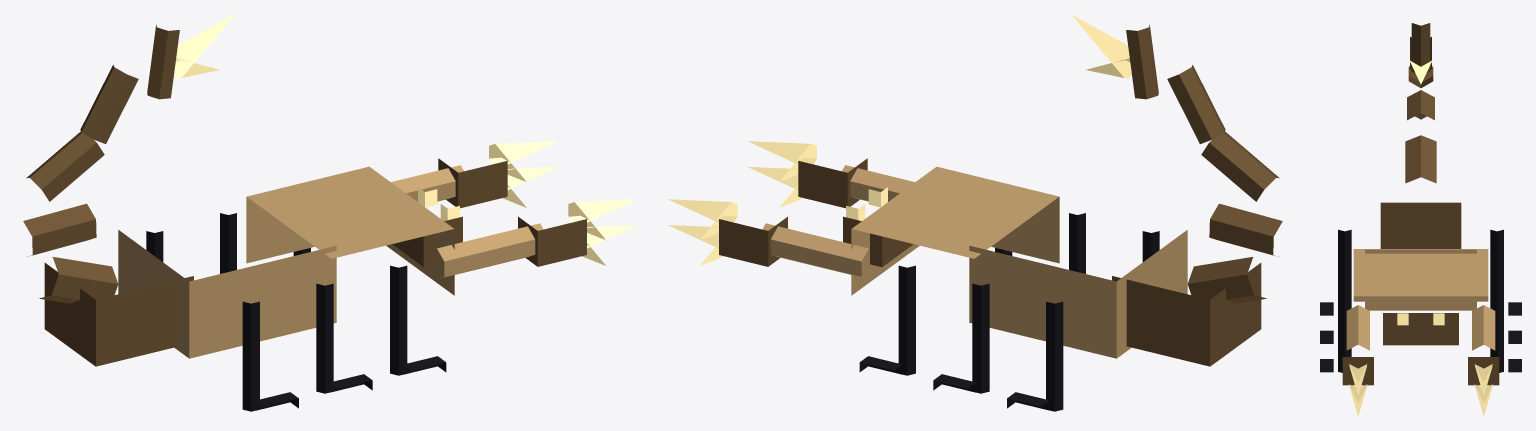
File: scorpion.glb
The picture shows the model from 3 angles, left to right: view 1: azimuth 30°, elevation 25°; view 2: azimuth 150°, elevation 25°; view 3: azimuth 270°, elevation 25°; orthographic projection. The views are drawn at different scales.
Parts seen in each view (by area): view 1: scorpion-cephalo, scorpion-abdomen, scorpion-abdomen2, scorpion-pincer-arm-1, scorpion-tail-2, scorpion-tail-1, scorpion-tail-0, scorpion-tail-3, scorpion-pincer-base--1, scorpion-pincer-base-1, scorpion-leg-l0, scorpion-leg-l2 (+10 smaller); view 2: scorpion-cephalo, scorpion-abdomen, scorpion-abdomen2, scorpion-pincer-arm--1, scorpion-tail-2, scorpion-tail-1, scorpion-tail-0, scorpion-tail-3, scorpion-pincer-base-1, scorpion-pincer-base--1, scorpion-leg-r0, scorpion-leg-r2 (+10 smaller); view 3: scorpion-cephalo, scorpion-abdomen2, scorpion-head, scorpion-abdomen, scorpion-tail-0, scorpion-pincer-arm-1, scorpion-pincer-arm--1, scorpion-leg-l0, scorpion-leg-r0, scorpion-tail-4, scorpion-pincer-base-1, scorpion-pincer-base--1 (+11 smaller).
Boxes of the visible parts, x1,y1,x2,y2 form: scorpion-cephalo: [246, 166, 454, 295]; scorpion-abdomen: [118, 230, 336, 358]; scorpion-abdomen2: [44, 263, 193, 366]; scorpion-pincer-arm-1: [437, 223, 543, 278]; scorpion-tail-2: [26, 131, 104, 201]; scorpion-tail-1: [23, 203, 96, 256]; scorpion-tail-0: [39, 257, 118, 303]; scorpion-tail-3: [80, 65, 138, 143]; scorpion-pincer-base--1: [438, 158, 507, 208]; scorpion-pincer-base-1: [518, 216, 586, 266]; scorpion-leg-l0: [390, 265, 407, 375]; scorpion-leg-l2: [242, 301, 259, 411]; scorpion-cephalo: [851, 166, 1059, 295]; scorpion-abdomen: [969, 230, 1187, 358]; scorpion-abdomen2: [1112, 263, 1261, 366]; scorpion-pincer-arm--1: [762, 223, 868, 278]; scorpion-tail-2: [1201, 131, 1279, 201]; scorpion-tail-1: [1209, 203, 1282, 256]; scorpion-tail-0: [1187, 257, 1266, 303]; scorpion-tail-3: [1167, 65, 1225, 143]; scorpion-pincer-base-1: [798, 158, 867, 208]; scorpion-pincer-base--1: [719, 216, 787, 266]; scorpion-leg-r0: [898, 265, 915, 375]; scorpion-leg-r2: [1046, 301, 1063, 411]; scorpion-cephalo: [1353, 249, 1488, 301]; scorpion-abdomen2: [1380, 202, 1461, 248]; scorpion-head: [1383, 313, 1458, 345]; scorpion-abdomen: [1365, 249, 1476, 310]; scorpion-tail-0: [1405, 135, 1436, 183]; scorpion-pincer-arm-1: [1346, 305, 1369, 350]; scorpion-pincer-arm--1: [1472, 305, 1495, 350]; scorpion-leg-l0: [1338, 286, 1351, 372]; scorpion-leg-r0: [1490, 286, 1503, 372]; scorpion-tail-4: [1411, 23, 1430, 72]; scorpion-pincer-base-1: [1342, 357, 1373, 385]; scorpion-pincer-base--1: [1468, 357, 1499, 385].
Size of the model in its own units: 2.34 by 1.39 by 0.9.
